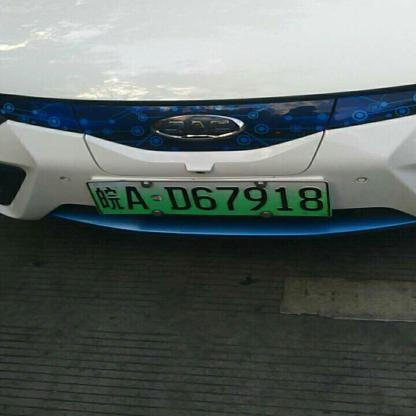lp: (88, 181, 330, 217)
